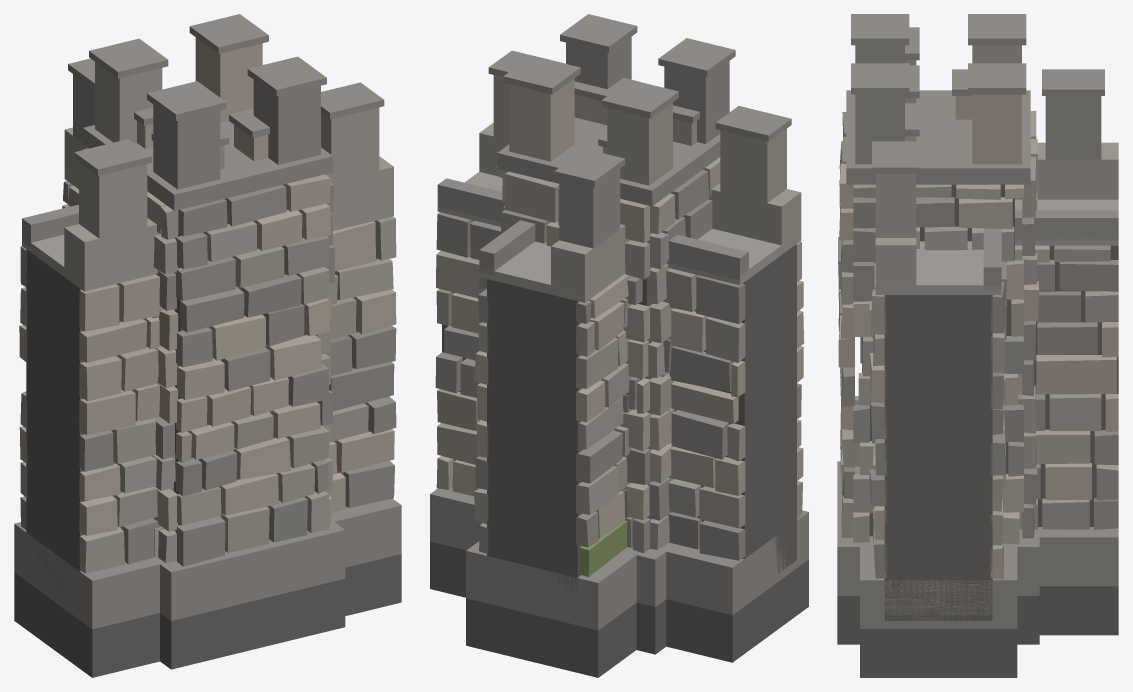
The model's file is SM_Wall_T.fbx.
3 renders of one model, left to right at view 1: azimuth 30°, elevation 25°; view 2: azimuth 150°, elevation 25°; view 3: azimuth 270°, elevation 25°, orthographic. The views are drawn at different scales.
Parts seen in each view (by area): view 1: SM_Wall_T; view 2: SM_Wall_T; view 3: SM_Wall_T.
Boxes of the visible parts, box(x1,y1,x2,y2) form: SM_Wall_T: box(14, 14, 401, 677); SM_Wall_T: box(430, 14, 808, 677); SM_Wall_T: box(837, 14, 1118, 677).
Size of the model in its own units: 4 by 6.76 by 3.12.
